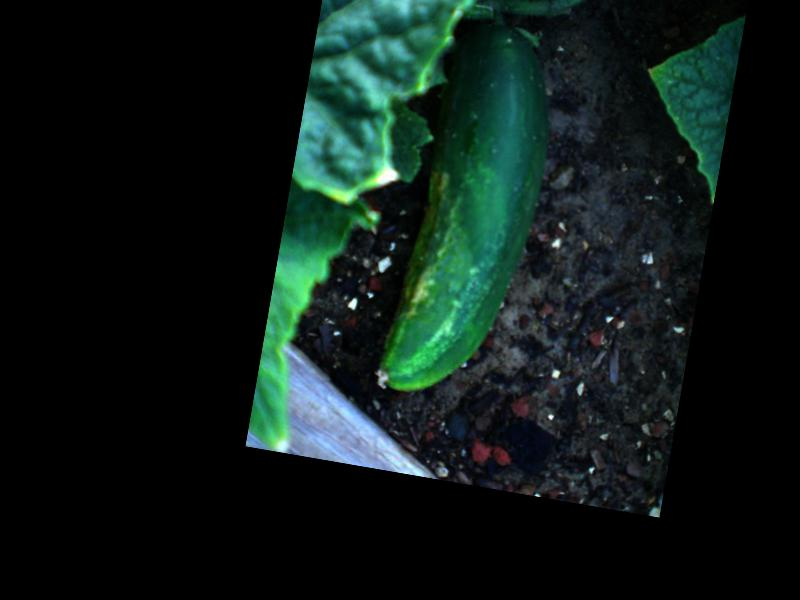Cucumber: (373, 14, 565, 408)
